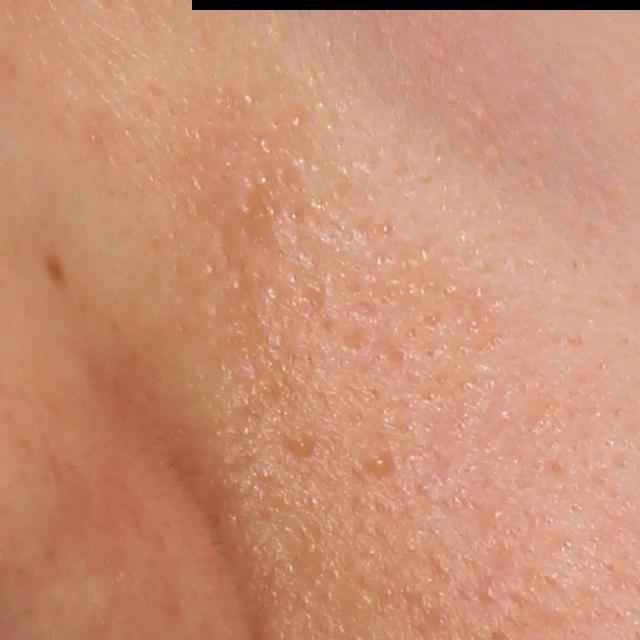comedo: (288, 430, 315, 458)
nevus: (42, 251, 73, 291)
